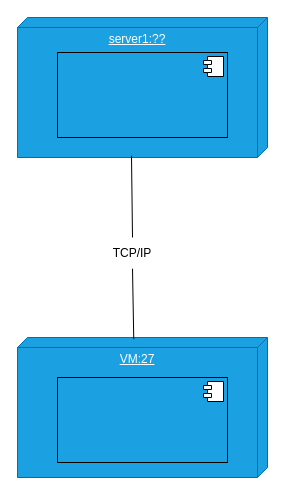
The diagram is 285 pixels wide and 495 high, and some of its shapes have lost their labels. Each missing label, with the centre of its shape:
"Component DBMS" belongs at [142,419].
"Component MastersData" belongs at [142,95].
